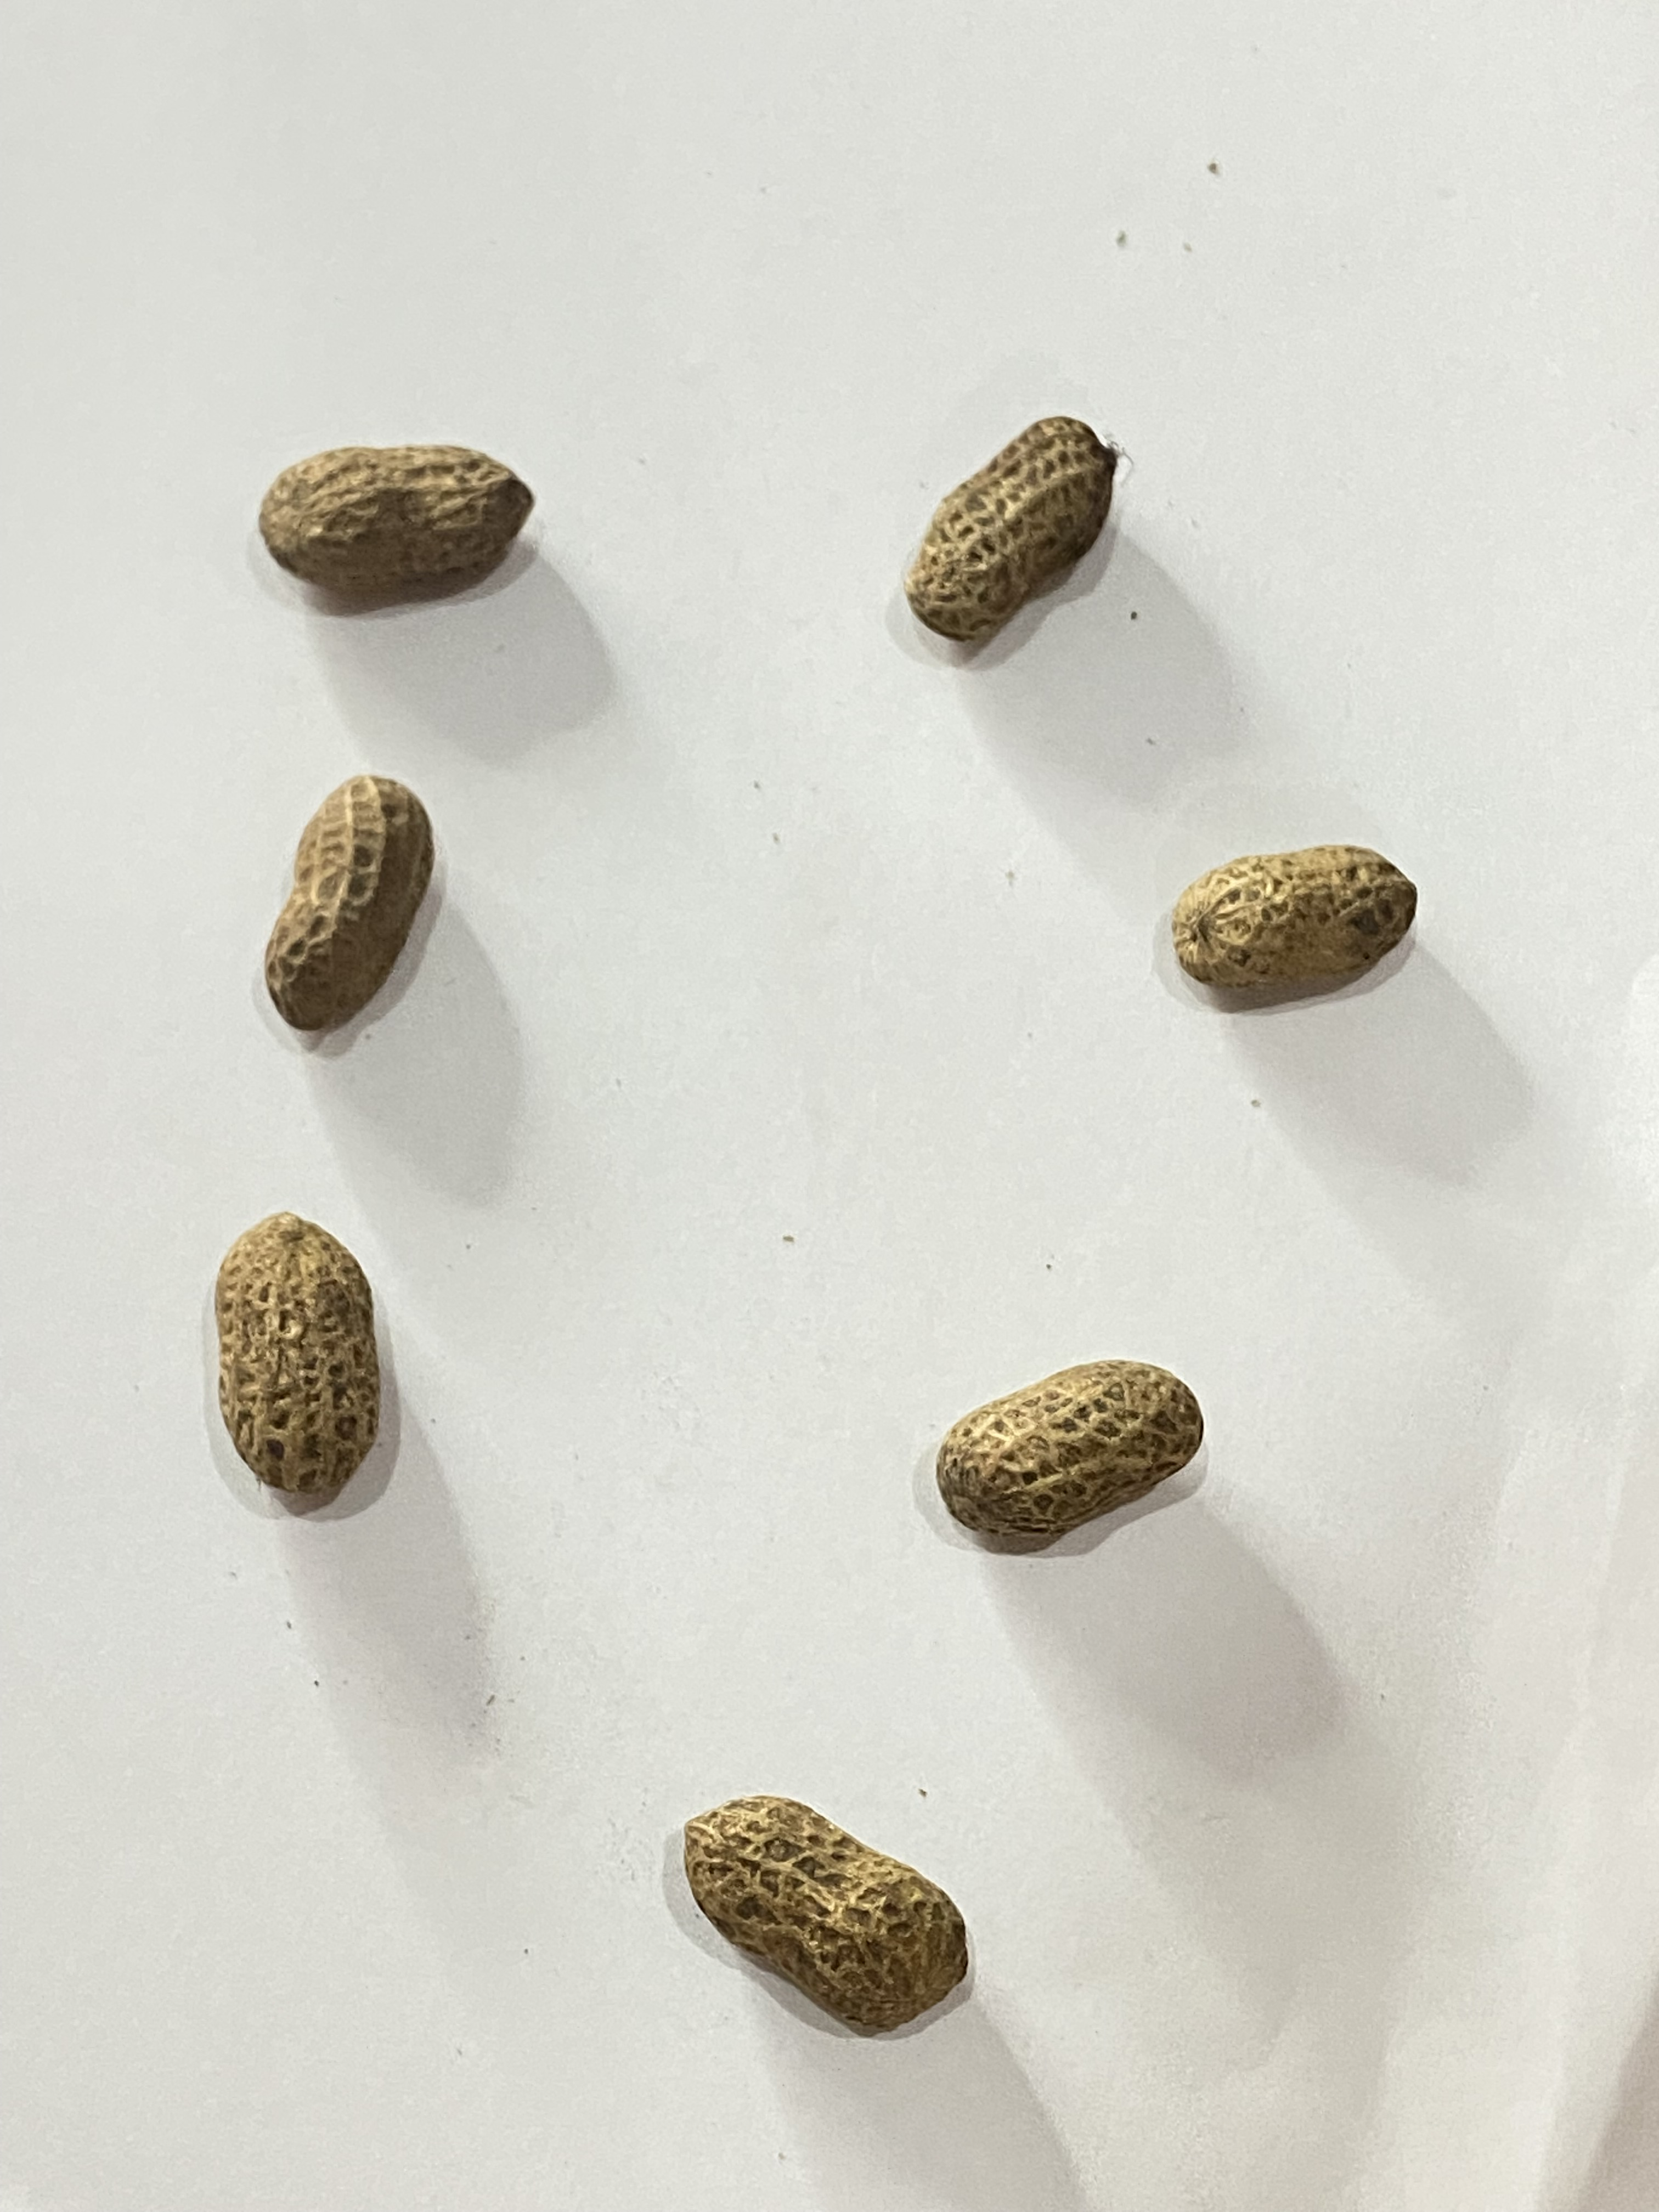kacang2: (173, 1184, 420, 1517), (660, 1794, 995, 2036), (915, 1331, 1244, 1562), (1140, 840, 1495, 1035), (899, 404, 1140, 660), (214, 430, 563, 596), (265, 770, 457, 1054)
